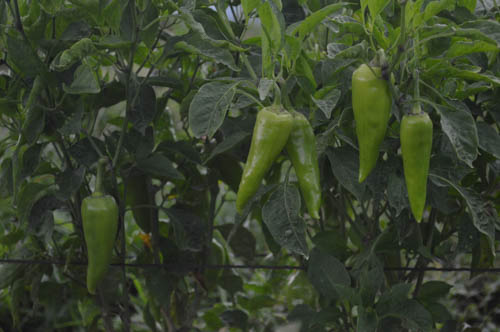ChiliPepper: (239, 110, 290, 207), (353, 61, 386, 188), (80, 200, 121, 295), (294, 104, 324, 215), (401, 113, 424, 226)
